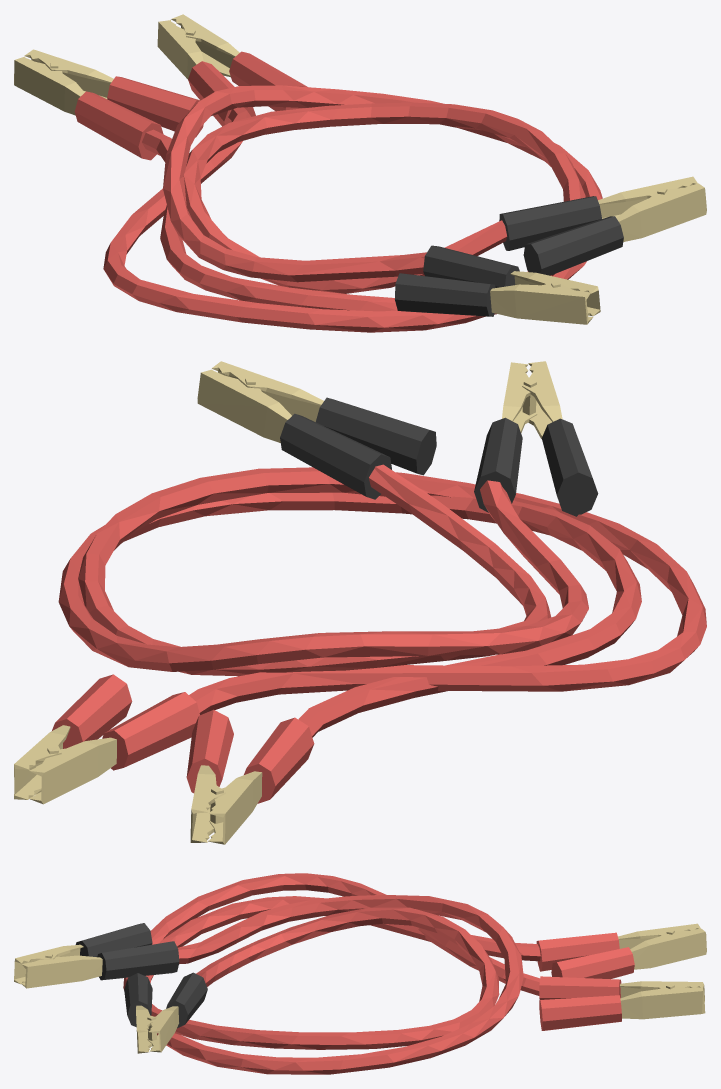
File: prop-jumper-cables.glb
3 renders of one model, top to bottom at view 1: azimuth 30°, elevation 25°; view 2: azimuth 150°, elevation 25°; view 3: azimuth 270°, elevation 25°, orthographic. The views are drawn at different scales.
Visible parts, largest first — view 1: NurbsPath; view 2: NurbsPath; view 3: NurbsPath.
Part boxes in pixels (bbox=[...]): NurbsPath: bbox=[14, 14, 706, 332]; NurbsPath: bbox=[14, 361, 706, 844]; NurbsPath: bbox=[14, 873, 706, 1074].
Bounding box in the file's own units: 1.05 × 0.1606 × 1.56.
